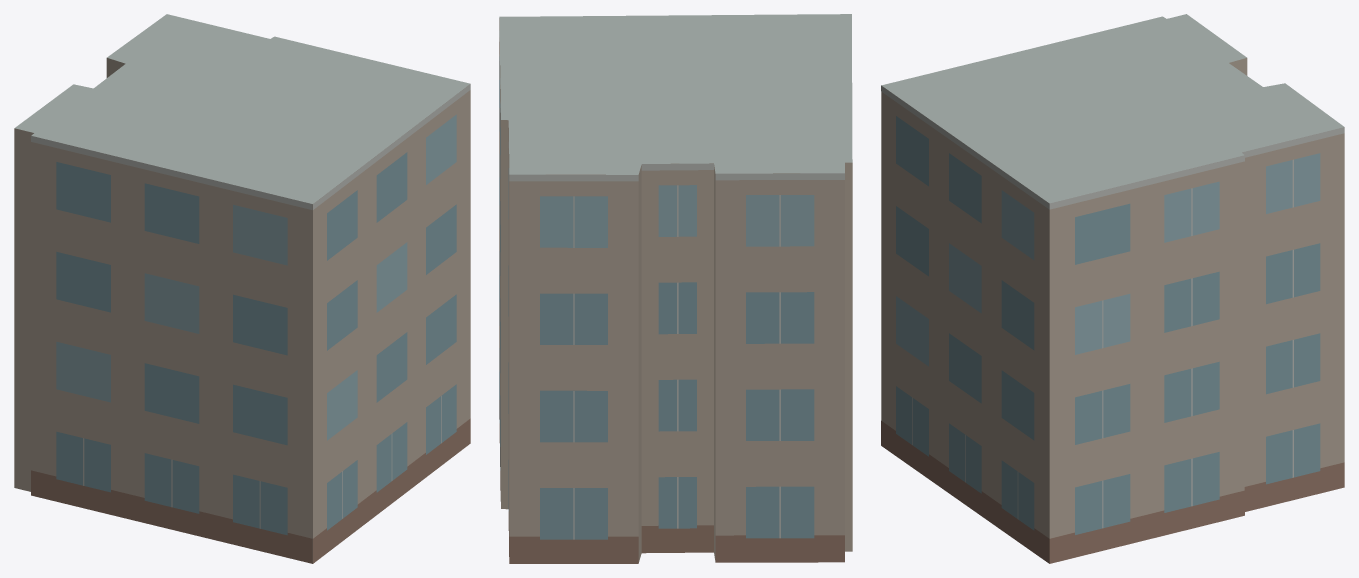
The model's file is survey-upis-32827252.glb.
3 views of the same model, side by side, from view 1: azimuth 30°, elevation 25°; view 2: azimuth 150°, elevation 25°; view 3: azimuth 270°, elevation 25° (orthographic). The views are drawn at different scales.
Parts seen in each view (by area): view 1: survey-upis-32827252.tmp; view 2: survey-upis-32827252.tmp; view 3: survey-upis-32827252.tmp.
Boxes of the visible parts, x1,y1,x2,y2 form: survey-upis-32827252.tmp: [14, 14, 470, 563]; survey-upis-32827252.tmp: [499, 14, 852, 563]; survey-upis-32827252.tmp: [881, 14, 1344, 563].
Bounding box in the file's own units: 16.22 × 14.37 × 16.76.
